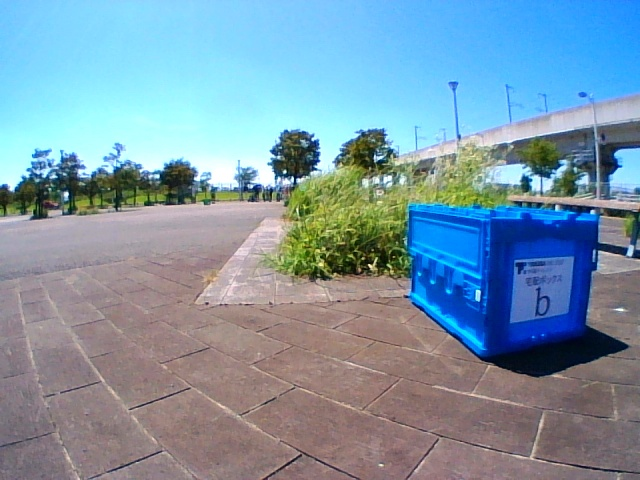blue_box: (446, 215, 584, 330)
tag_b: (522, 273, 556, 316)
